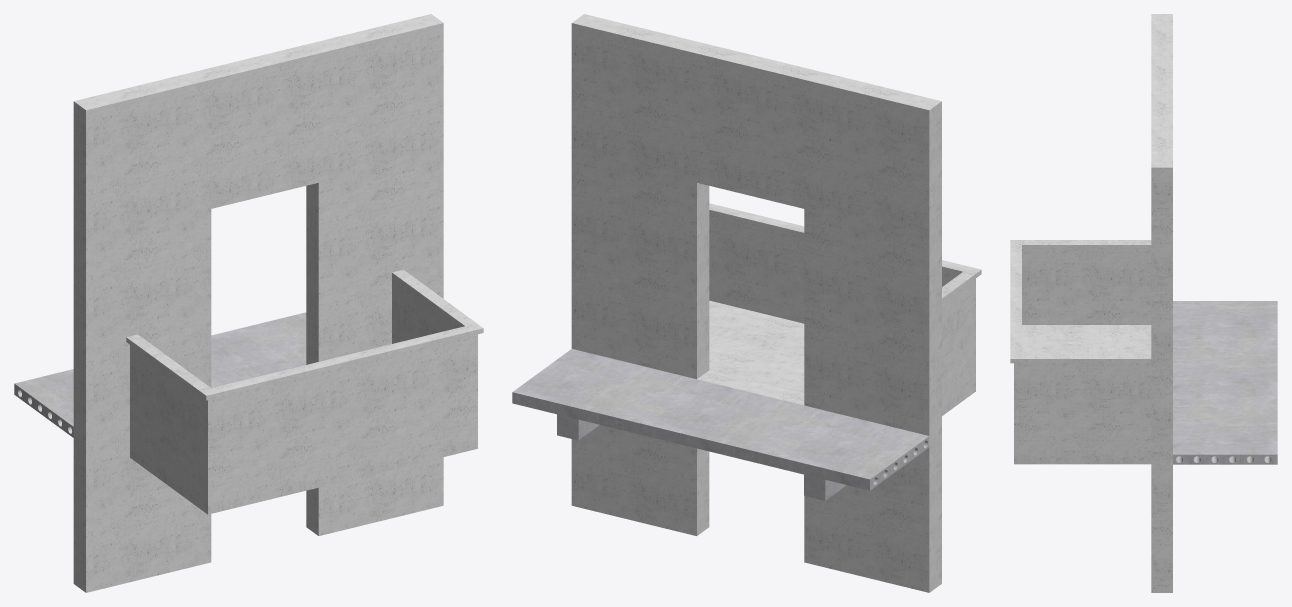
The model's file is cantilever-slab-l-notch-board.glb.
3 renders of one model, left to right at view 1: azimuth 30°, elevation 25°; view 2: azimuth 150°, elevation 25°; view 3: azimuth 270°, elevation 25°, orthographic. The views are drawn at different scales.
Visible parts, largest first — view 1: 挑梁搭板- L形挑梁卡口板; view 2: 挑梁搭板- L形挑梁卡口板; view 3: 挑梁搭板- L形挑梁卡口板.
Boxes of the visible parts, box(x1,y1,x2,y2) form: 挑梁搭板- L形挑梁卡口板: box(14, 14, 483, 592); 挑梁搭板- L形挑梁卡口板: box(512, 14, 981, 592); 挑梁搭板- L形挑梁卡口板: box(1010, 14, 1277, 592).
Size of the model in its own units: 4 by 5.16 by 2.94.
2 materials, 2 textured.
